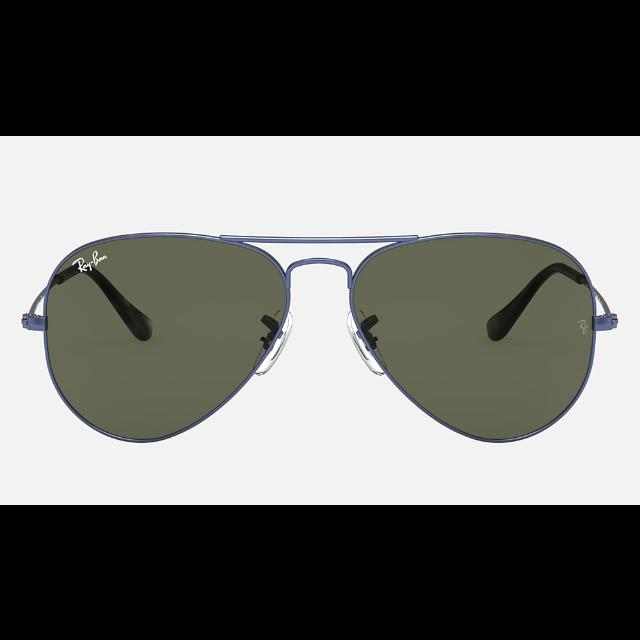Sunglasses: (22, 232, 620, 442)
